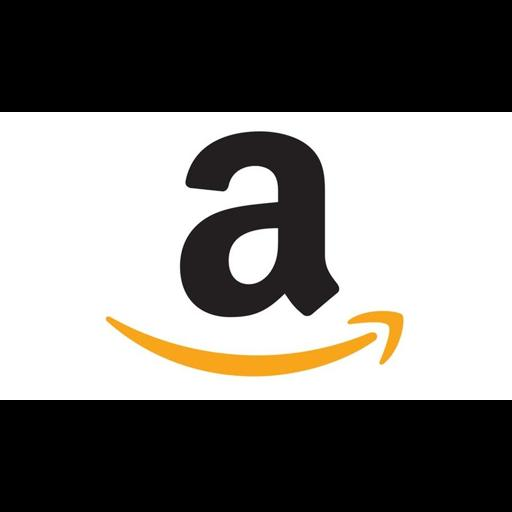Amazon: (0, 112, 512, 400)
